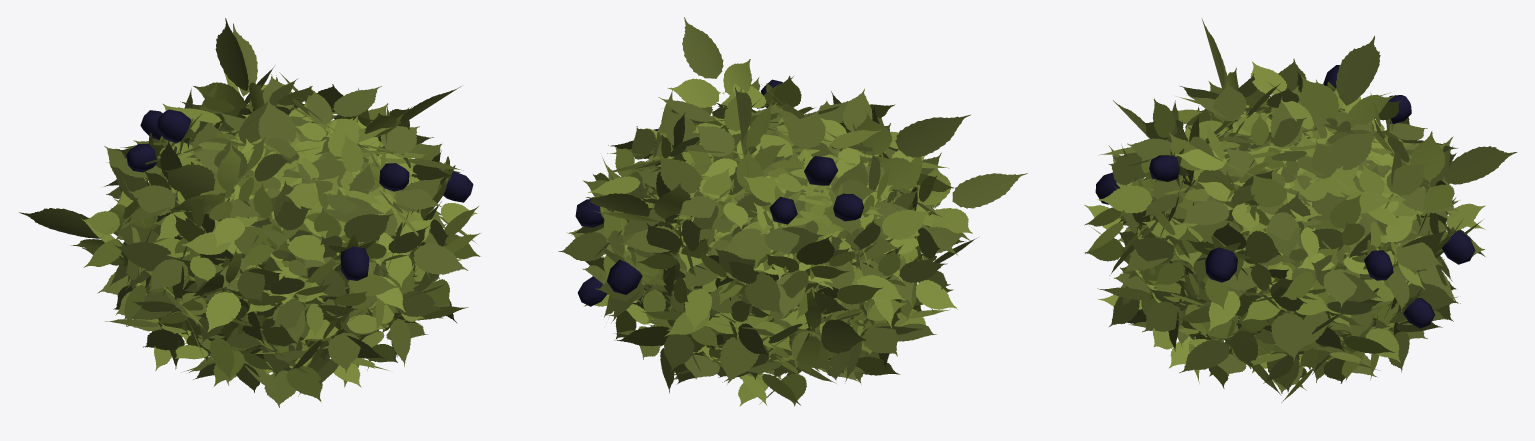
File: Blackberry_Bush_2b.fbx
The picture shows the model from 3 angles, left to right: view 1: azimuth 30°, elevation 25°; view 2: azimuth 150°, elevation 25°; view 3: azimuth 270°, elevation 25°; orthographic projection.
Visible parts, largest first — view 1: Blackberry_Bush_2b; view 2: Blackberry_Bush_2b; view 3: Blackberry_Bush_2b.
Boxes of the visible parts, <box> form: Blackberry_Bush_2b: <box>19,18,480,407</box>; Blackberry_Bush_2b: <box>558,17,1027,406</box>; Blackberry_Bush_2b: <box>1084,19,1517,402</box>.
Size of the model in its own units: 117 by 101 by 117.
1 material, 1 textured.
